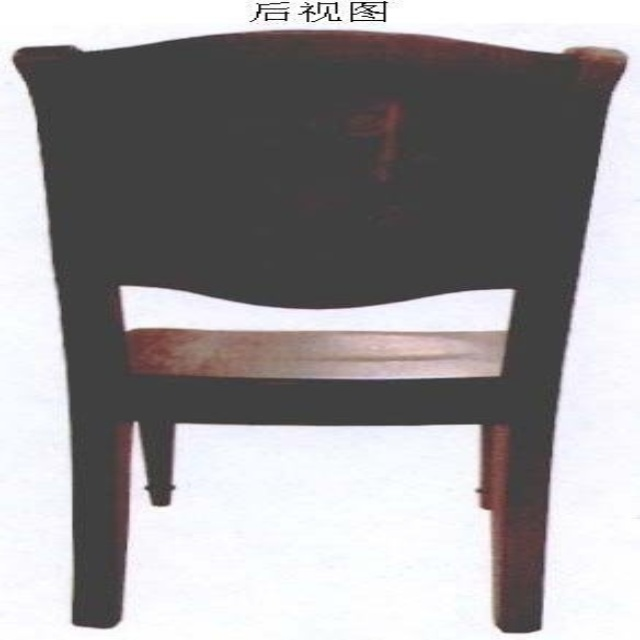obstacle: (13, 30, 622, 632)
